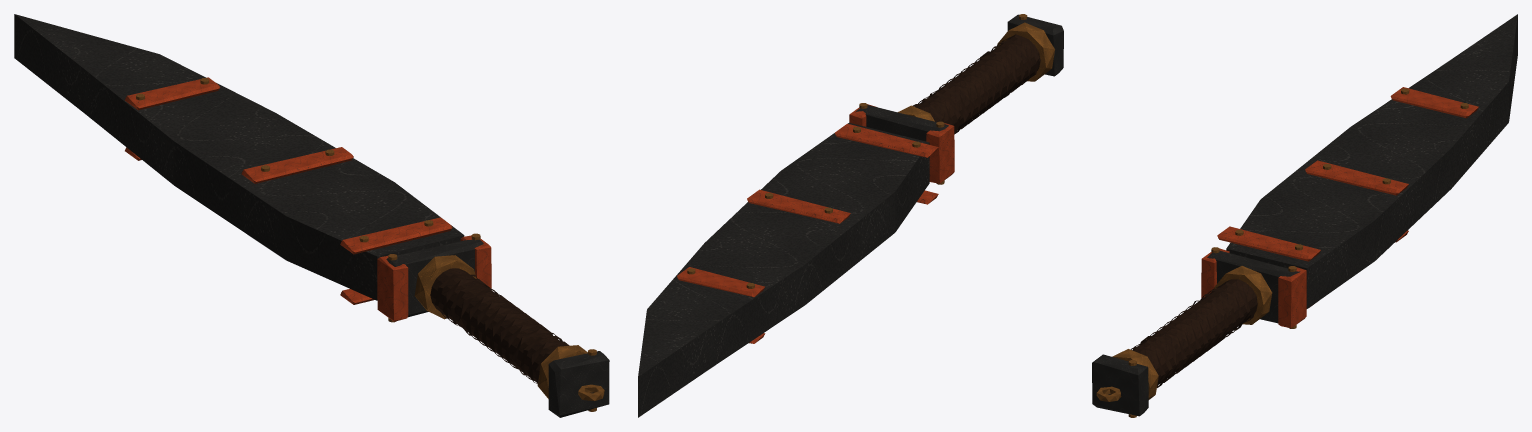
Rendered from kiln-sword-stowed-lod1.glb.
3 renders of one model, left to right at view 1: azimuth 30°, elevation 25°; view 2: azimuth 150°, elevation 25°; view 3: azimuth 330°, elevation 25°, orthographic. The views are drawn at different scales.
Visible parts, largest first — view 1: Forged fitted scabbard, Grip core, Pommel iron cap, Guard iron block, Ceramic guard cheek, Ceramic scabbard strap.001, Ceramic scabbard strap.003, Ceramic scabbard strap.005, Brass grip ferrule.001, Brass grip ferrule, Ceramic guard cheek.001; view 2: Forged fitted scabbard, Grip core, Guard iron block, Ceramic scabbard strap.003, Ceramic scabbard strap.001, Ceramic guard cheek, Ceramic scabbard strap.005, Brass grip ferrule, Pommel iron cap; view 3: Forged fitted scabbard, Grip core, Pommel iron cap, Guard iron block, Ceramic guard cheek.001, Ceramic scabbard strap.001, Ceramic scabbard strap.003, Ceramic scabbard strap.005, Brass grip ferrule.001, Brass grip ferrule, Ceramic guard cheek.
Part boxes in pixels (box(x1,y1,x2,y2)): Forged fitted scabbard: box(14, 14, 464, 300); Grip core: box(430, 268, 566, 383); Pommel iron cap: box(548, 351, 609, 417); Guard iron block: box(386, 239, 483, 317); Ceramic guard cheek: box(377, 256, 408, 321); Ceramic scabbard strap.001: box(340, 217, 452, 254); Ceramic scabbard strap.003: box(241, 147, 353, 183); Ceramic scabbard strap.005: box(125, 77, 220, 110); Brass grip ferrule.001: box(414, 255, 476, 319); Brass grip ferrule: box(537, 345, 587, 398); Ceramic guard cheek.001: box(460, 235, 491, 288); Forged fitted scabbard: box(638, 123, 929, 417); Grip core: box(915, 36, 1040, 131); Guard iron block: box(856, 105, 948, 141); Ceramic scabbard strap.003: box(747, 189, 850, 223); Ceramic scabbard strap.001: box(835, 123, 938, 157); Ceramic guard cheek: box(926, 123, 954, 183); Ceramic scabbard strap.005: box(677, 267, 764, 297); Brass grip ferrule: box(997, 22, 1054, 81); Pommel iron cap: box(1007, 14, 1063, 76); Forged fitted scabbard: box(1226, 14, 1517, 308); Grip core: box(1132, 279, 1257, 384); Pommel iron cap: box(1092, 354, 1148, 416); Guard iron block: box(1207, 250, 1299, 323); Ceramic guard cheek.001: box(1278, 267, 1306, 328); Ceramic scabbard strap.001: box(1217, 226, 1320, 261); Ceramic scabbard strap.003: box(1305, 160, 1408, 195); Ceramic scabbard strap.005: box(1390, 87, 1478, 118); Brass grip ferrule.001: box(1214, 266, 1272, 324); Brass grip ferrule: box(1112, 349, 1158, 399); Ceramic guard cheek: box(1201, 248, 1229, 298).
Size of the model in its own units: 0.1905 by 0.092 by 1.33.
4 materials, 4 textured.
